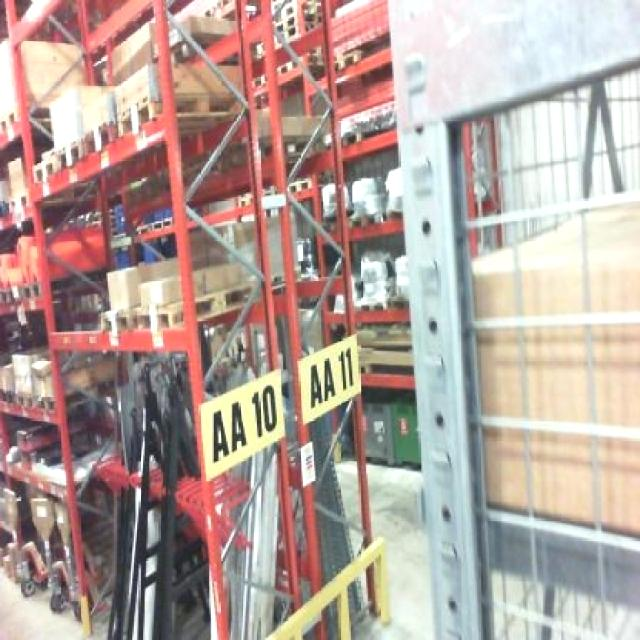pallets: (389, 0, 637, 637), (332, 454, 357, 520)
